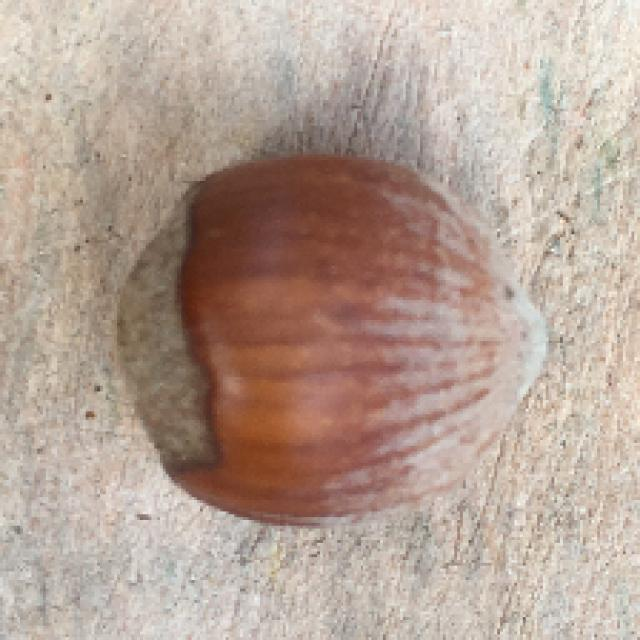qualityHazelnut: (105, 141, 551, 534)
